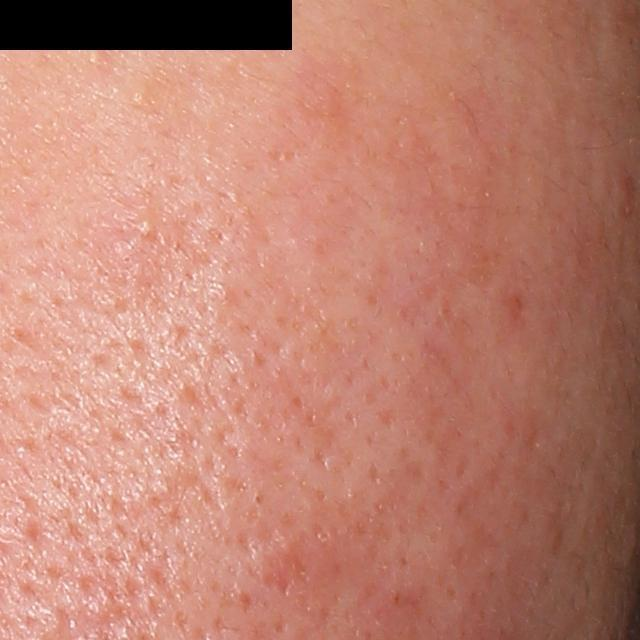atrophic_scar: (261, 534, 316, 599)
comedo: (130, 212, 158, 239)
